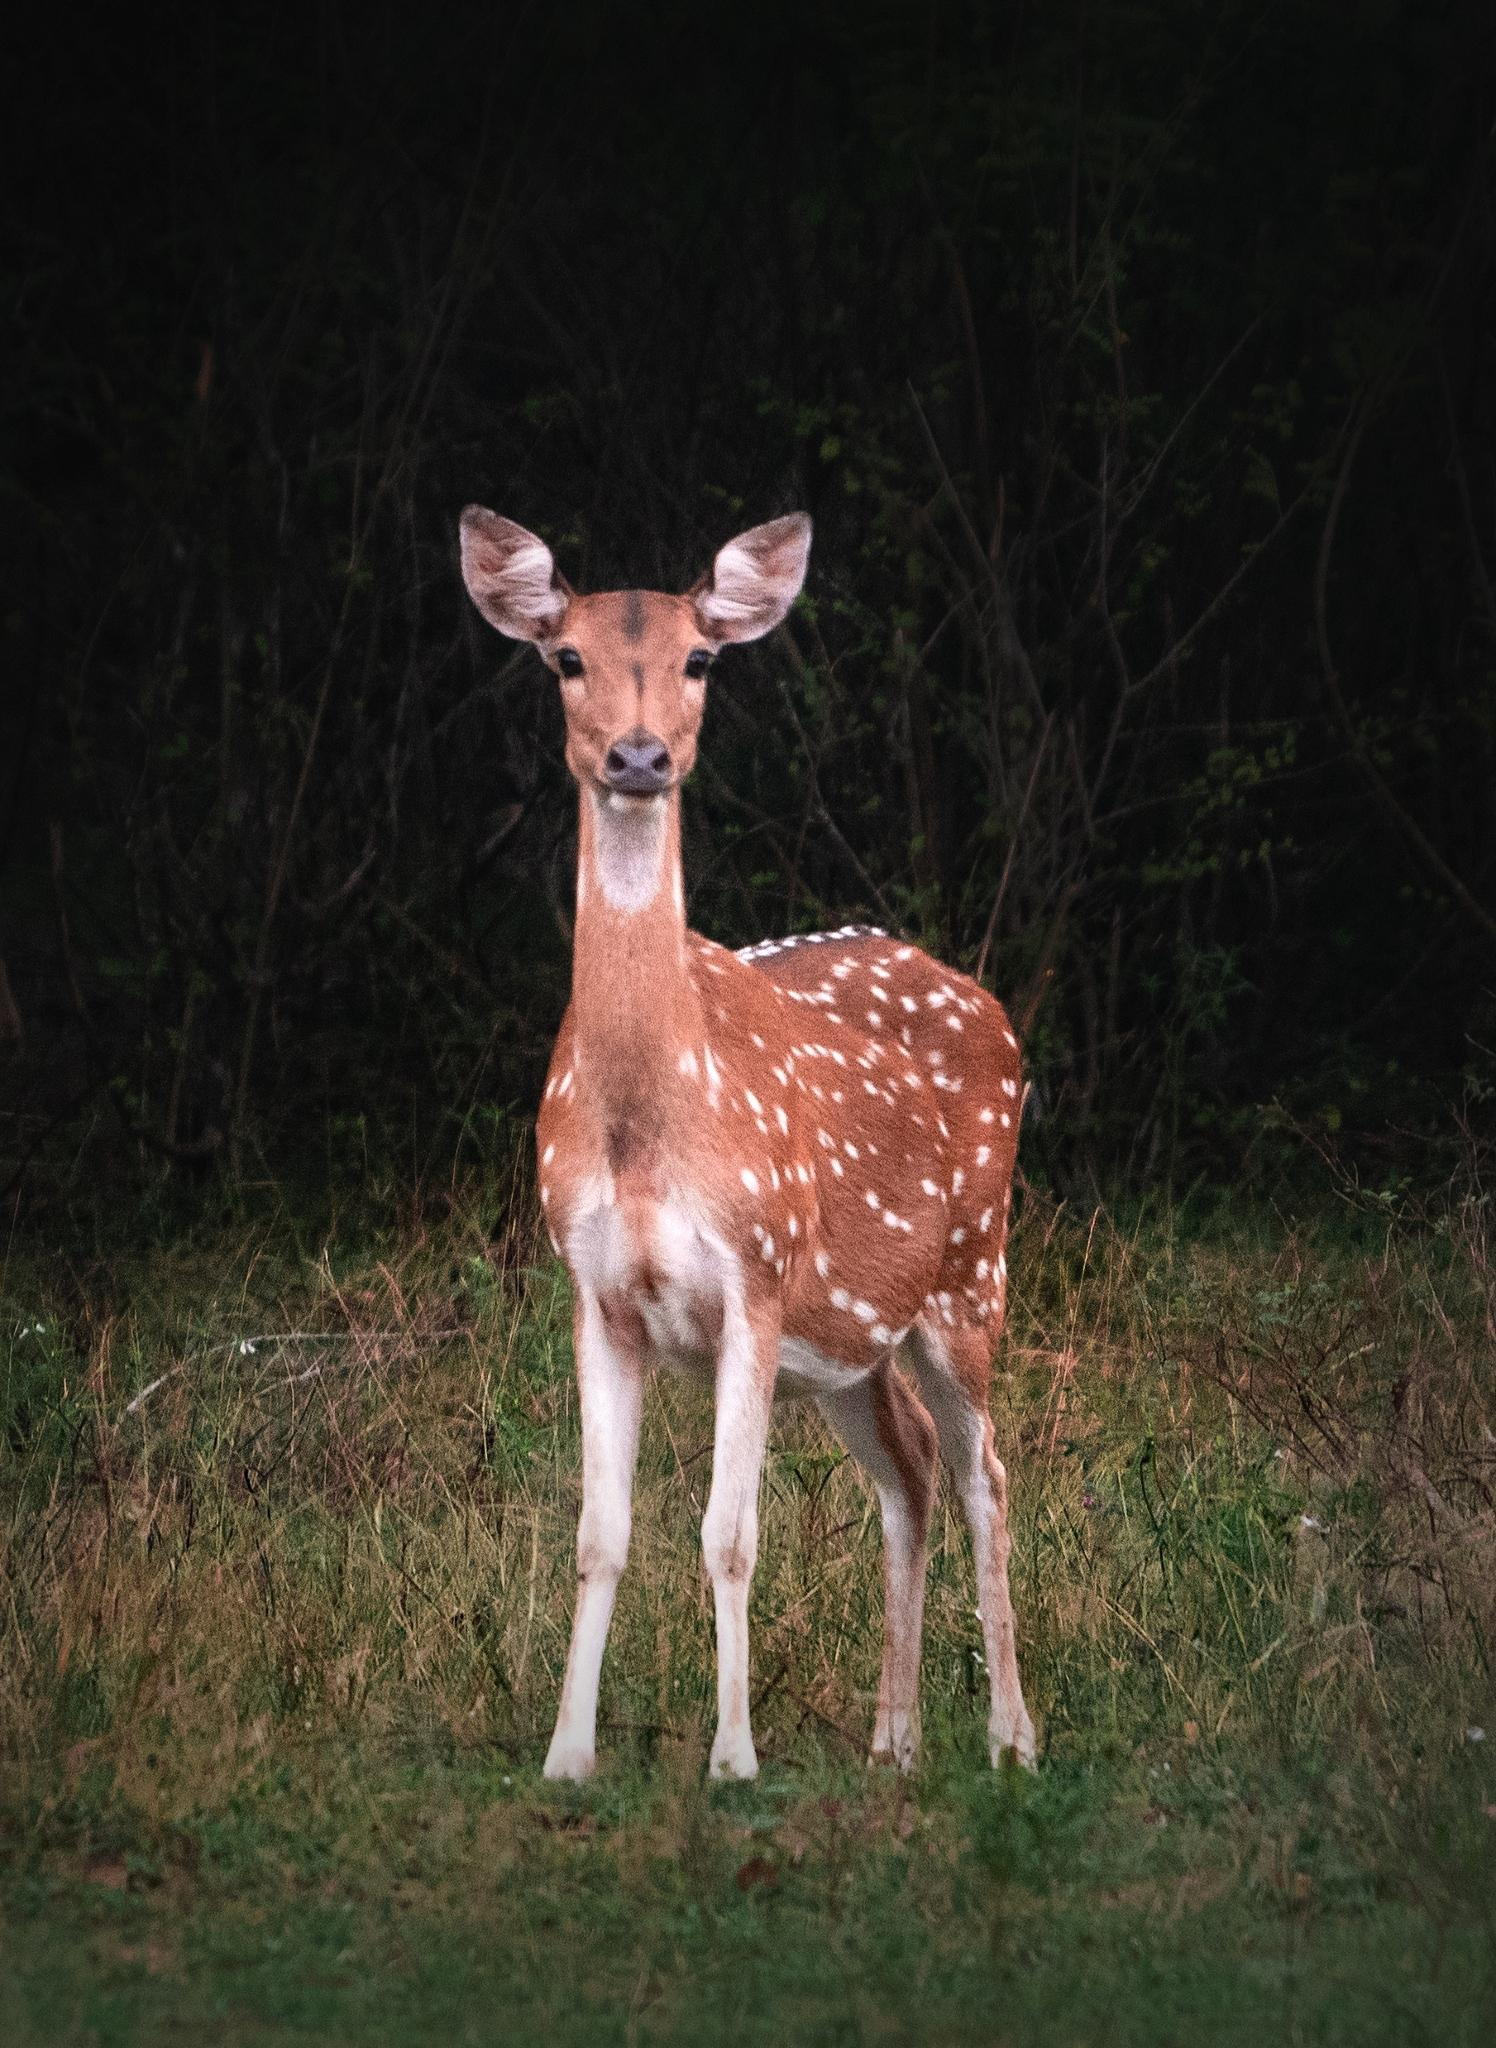Deer: (458, 507, 1033, 1778)
